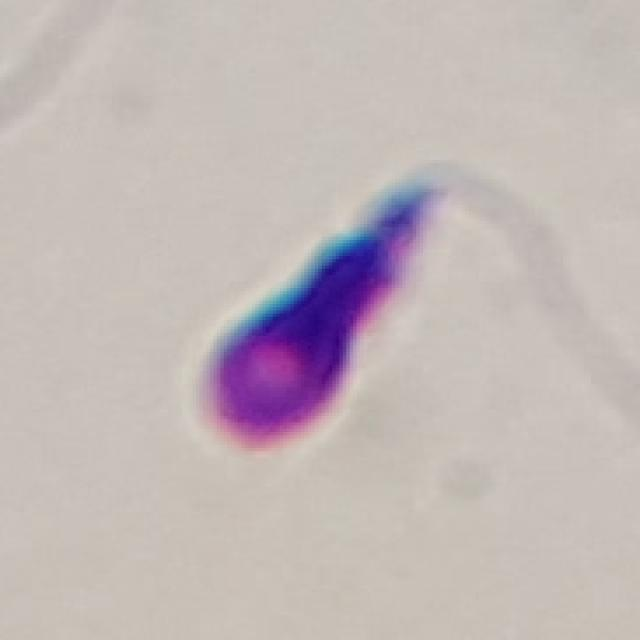abnormal sperm: (197, 158, 597, 451)
